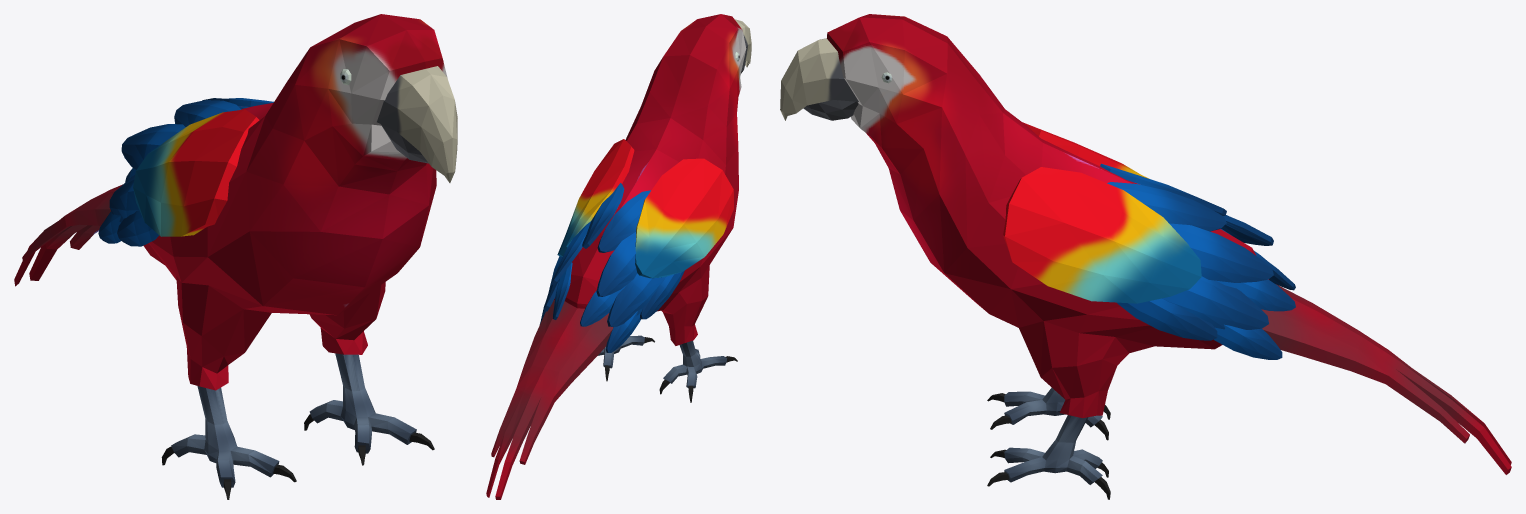
3 renders of one model, left to right at view 1: azimuth 30°, elevation 25°; view 2: azimuth 150°, elevation 25°; view 3: azimuth 270°, elevation 25°, orthographic. The views are drawn at different scales.
Parts seen in each view (by area): view 1: Node; view 2: Node; view 3: Node.
Boxes of the visible parts, x1,y1,x2,y2 form: Node: (14,14,457,499); Node: (486,14,751,499); Node: (780,14,1511,499).
Bounding box in the file's own units: 3.41 × 7.55 × 11.05.
Materials: 2 (1 with a texture image).
